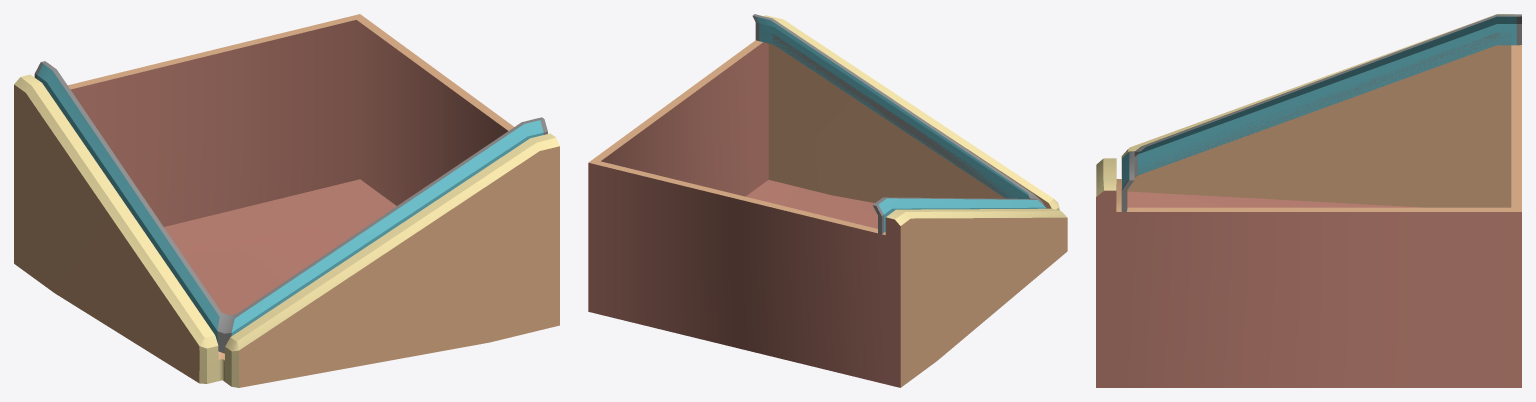
File: Stalls corner.fbx
3 views of the same model, side by side, from view 1: azimuth 30°, elevation 25°; view 2: azimuth 150°, elevation 25°; view 3: azimuth 270°, elevation 25° (orthographic). The views are drawn at different scales.
Parts seen in each view (by area): view 1: Stalls corner; view 2: Stalls corner; view 3: Stalls corner.
Boxes of the visible parts, x1,y1,x2,y2 form: Stalls corner: (14, 14, 559, 387); Stalls corner: (588, 14, 1067, 387); Stalls corner: (1096, 14, 1521, 387).
Size of the model in its own units: 17.01 by 9.16 by 17.01.
